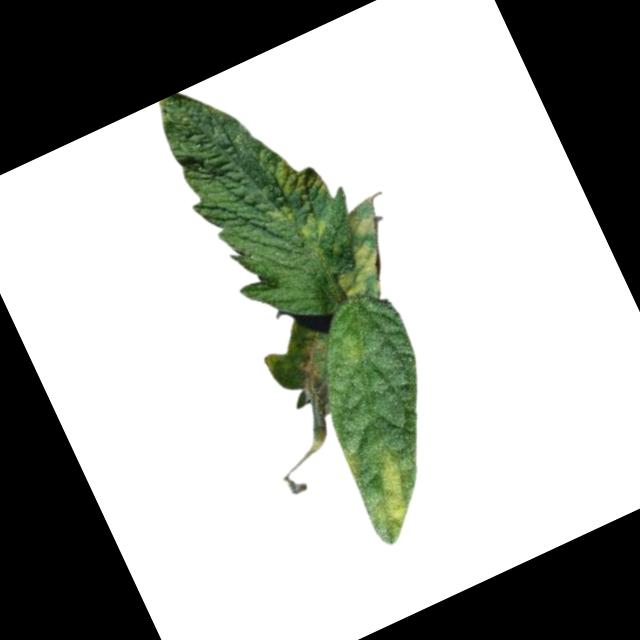Leaf_Mold: (246, 141, 347, 256), (339, 432, 435, 549), (311, 204, 406, 313), (277, 323, 349, 419)
